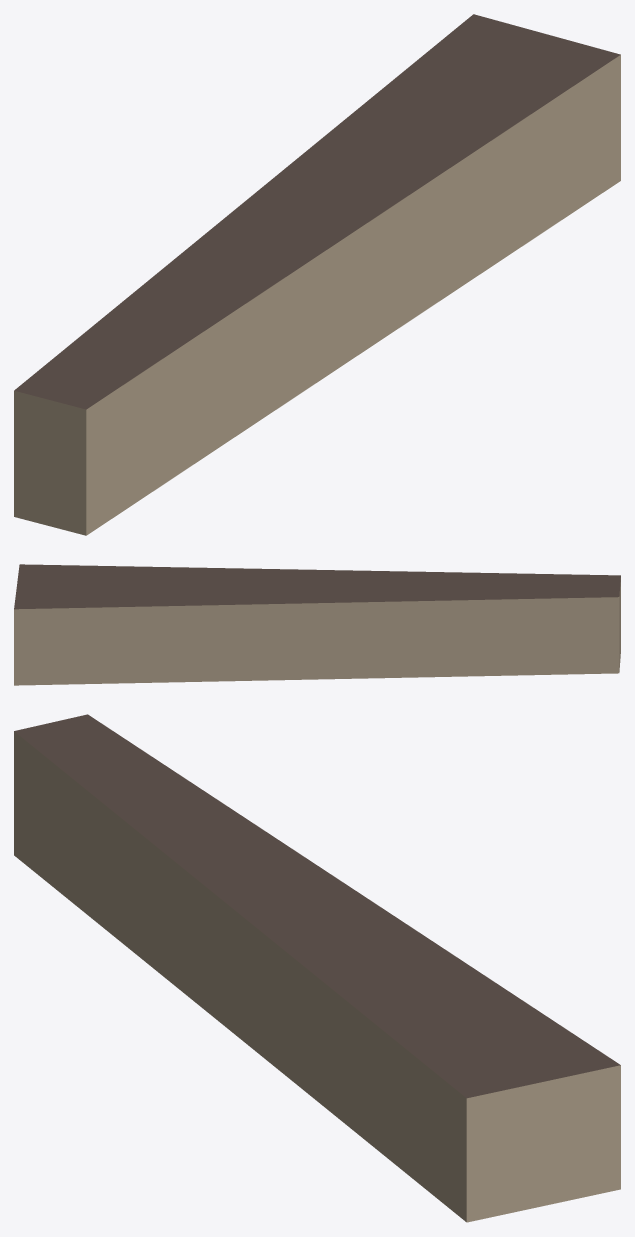
3 renders of one model, top to bottom at view 1: azimuth 30°, elevation 25°; view 2: azimuth 150°, elevation 25°; view 3: azimuth 270°, elevation 25°, orthographic. The views are drawn at different scales.
Parts seen in each view (by area): view 1: HP-w1516161936; view 2: HP-w1516161936; view 3: HP-w1516161936.
Part boxes in pixels (x1,y1,x2,y2): HP-w1516161936: (14, 14, 620, 535); HP-w1516161936: (14, 564, 620, 685); HP-w1516161936: (14, 714, 620, 1222).
Bounding box in the file's own units: 59.65 × 9 × 39.85.
